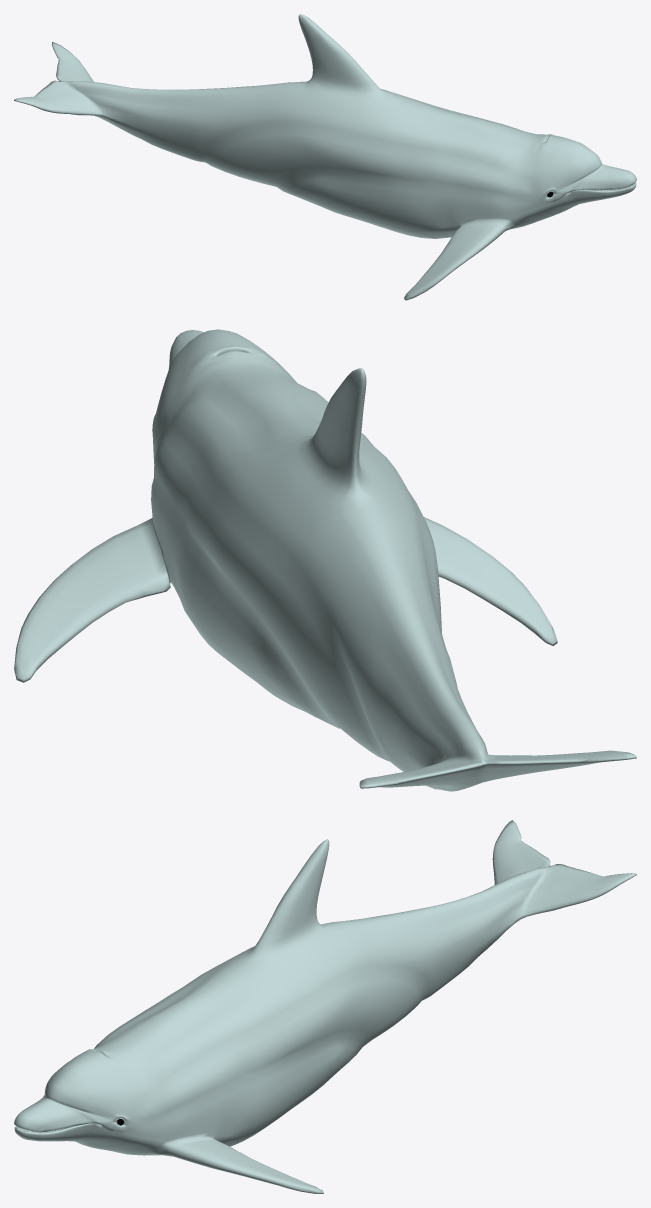
Rendered from dolphin_000004.obj.
The picture shows the model from 3 angles, top to bottom: view 1: azimuth 30°, elevation 25°; view 2: azimuth 150°, elevation 25°; view 3: azimuth 270°, elevation 25°; orthographic projection. The views are drawn at different scales.
Parts seen in each view (by area): view 1: Dolphin; view 2: Dolphin; view 3: Dolphin.
Boxes of the visible parts, box(x1,y1,x2,y2) form: Dolphin: box(14, 14, 636, 300); Dolphin: box(14, 329, 636, 791); Dolphin: box(14, 820, 636, 1193).
Bounding box in the file's own units: 5.51 × 2.63 × 5.6.
